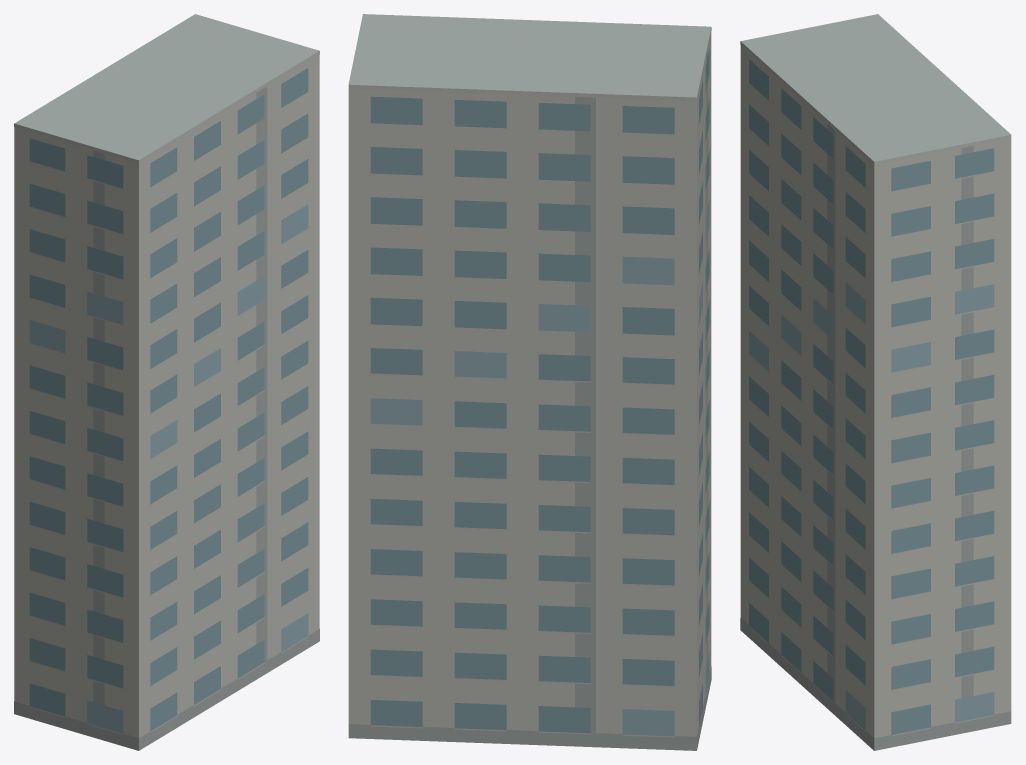
File: residential-9c68a89d-07b7-4de5-8bcd-5a11a037d540.glb
3 renders of one model, left to right at view 1: azimuth 30°, elevation 25°; view 2: azimuth 150°, elevation 25°; view 3: azimuth 270°, elevation 25°, orthographic. The views are drawn at different scales.
Parts seen in each view (by area): view 1: residential-9c68a89d-07b7-4de5-8bcd-5a11a037d540.tmp; view 2: residential-9c68a89d-07b7-4de5-8bcd-5a11a037d540.tmp; view 3: residential-9c68a89d-07b7-4de5-8bcd-5a11a037d540.tmp.
Part boxes in pixels (x1,y1,x2,y2): residential-9c68a89d-07b7-4de5-8bcd-5a11a037d540.tmp: (14,14,319,750); residential-9c68a89d-07b7-4de5-8bcd-5a11a037d540.tmp: (348,14,711,750); residential-9c68a89d-07b7-4de5-8bcd-5a11a037d540.tmp: (740,14,1011,750).
Size of the model in its own units: 22.08 by 41 by 17.1.
